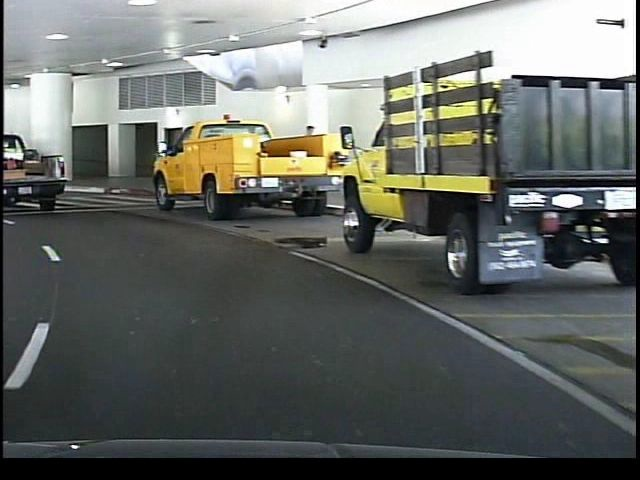person: (295, 120, 321, 199)
